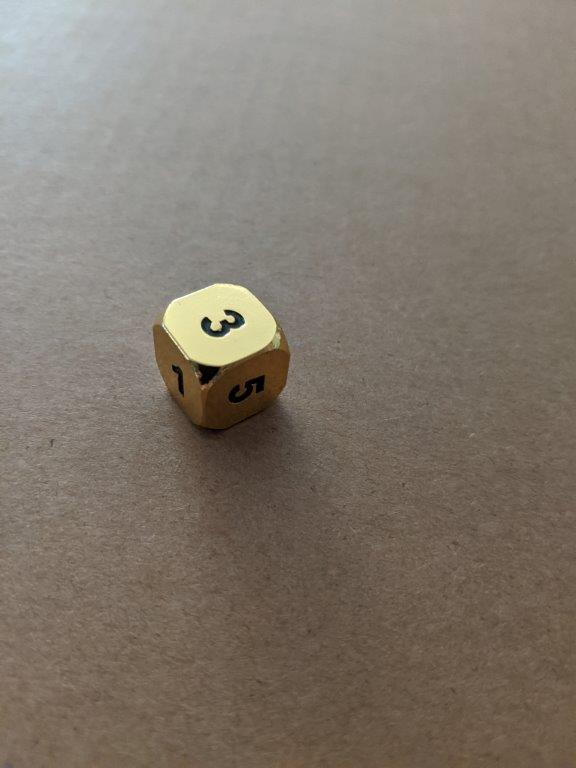d6-3: (152, 281, 290, 434)
